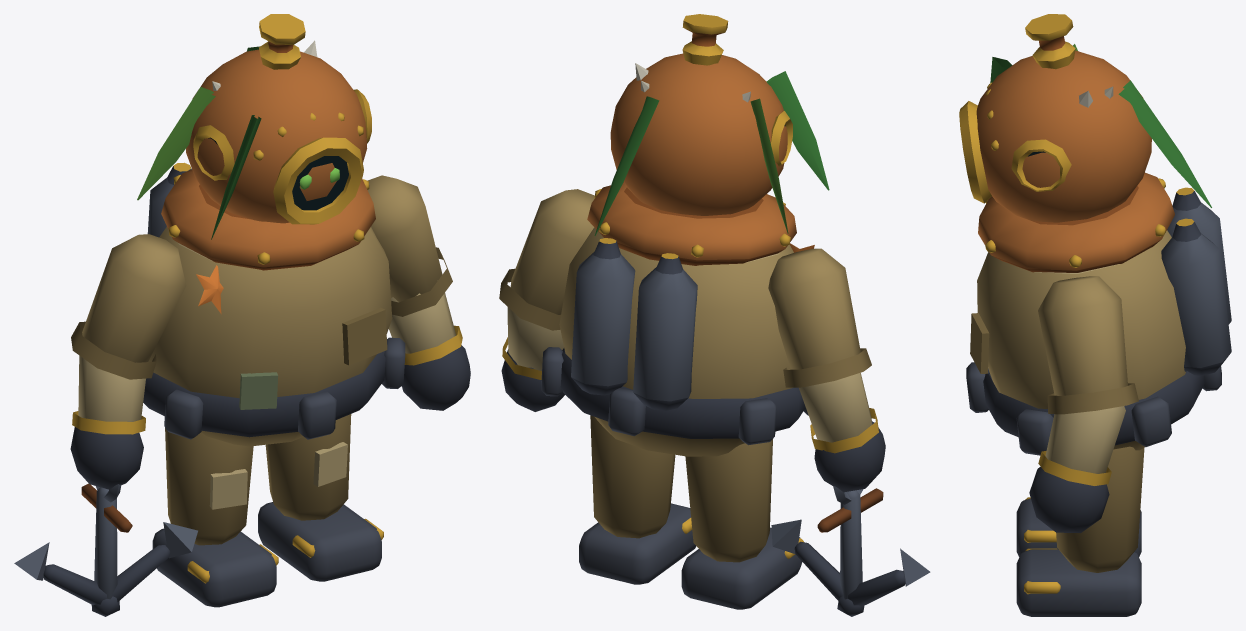
The model's file is e_untote_taucher.glb.
3 views of the same model, side by side, from view 1: azimuth 30°, elevation 25°; view 2: azimuth 150°, elevation 25°; view 3: azimuth 270°, elevation 25° (orthographic). The views are drawn at different scales.
Visible parts, largest first — view 1: body; view 2: body; view 3: body.
Boxes of the visible parts, bbox=[...] form: body: bbox=[14, 14, 470, 616]; body: bbox=[499, 14, 930, 616]; body: bbox=[959, 14, 1231, 616].
Bounding box in the file's own units: 2.78 × 3.39 × 1.48.
